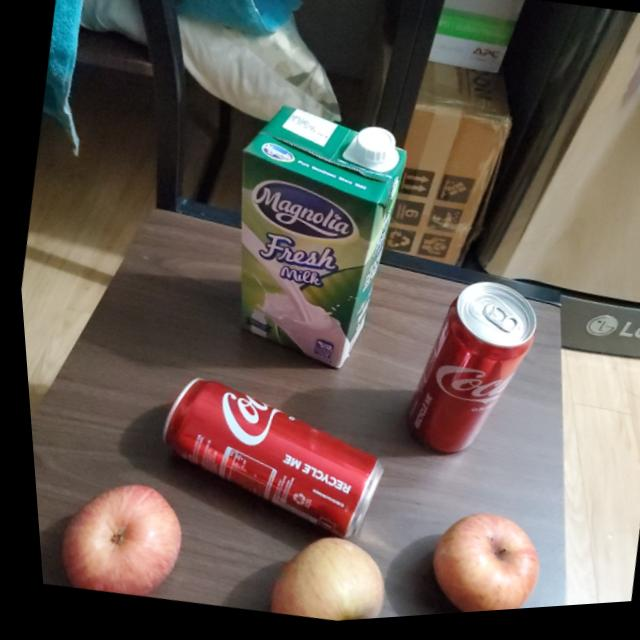apple: (45, 469, 186, 606), (413, 509, 542, 620), (256, 528, 387, 628)
coke: (137, 368, 391, 559), (385, 273, 550, 480)
milk: (196, 97, 424, 391)
